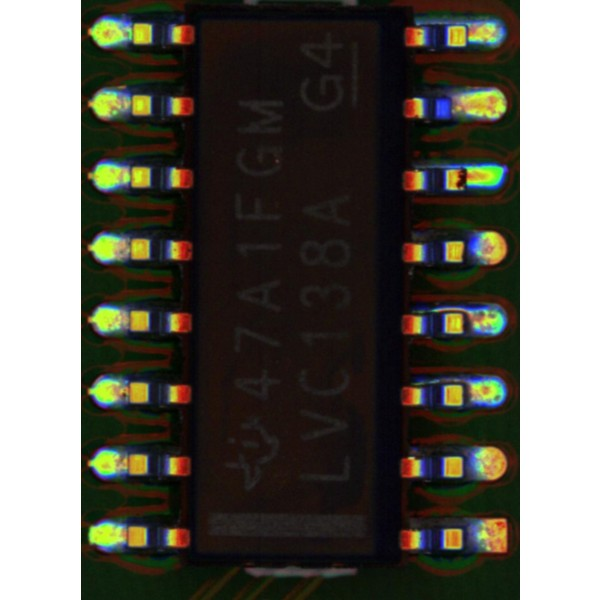Bad_podu: (451, 26, 480, 39)
Bad_qiaojiao: (413, 378, 469, 386), (417, 161, 464, 170), (415, 305, 467, 312)
